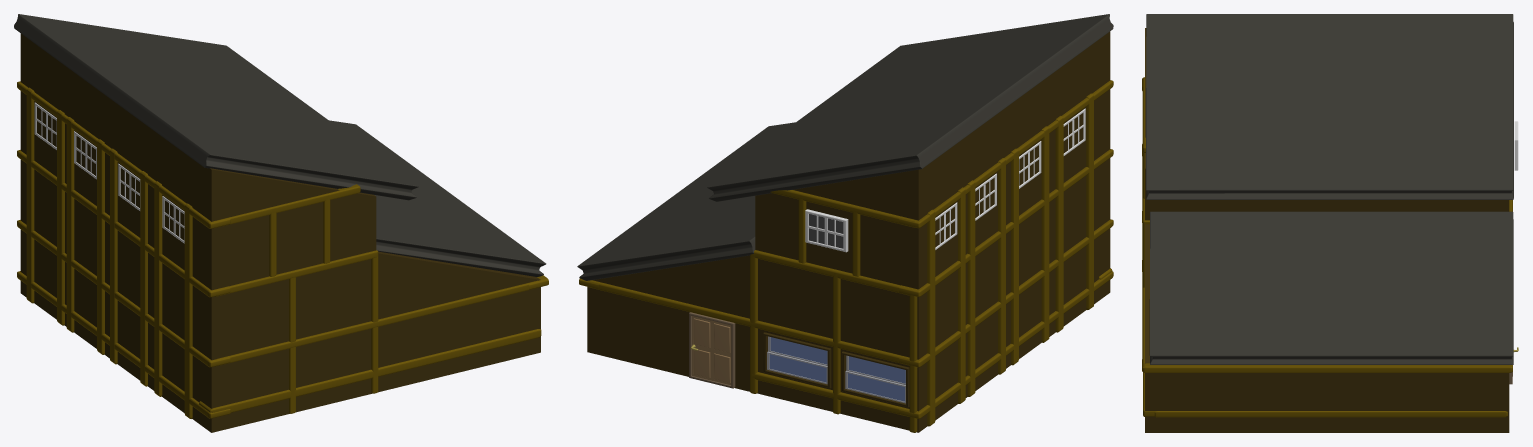
Rendered from house 2.fbx.
3 renders of one model, left to right at view 1: azimuth 30°, elevation 25°; view 2: azimuth 150°, elevation 25°; view 3: azimuth 270°, elevation 25°, orthographic. The views are drawn at different scales.
Parts seen in each view (by area): view 1: polySurface1111; view 2: polySurface1111; view 3: polySurface1111.
Boxes of the visible parts, box(x1,y1,x2,y2) form: polySurface1111: box(14, 14, 548, 432); polySurface1111: box(577, 14, 1113, 432); polySurface1111: box(1142, 14, 1518, 432).
Bounding box in the file's own units: 1525 × 1181 × 1520.
